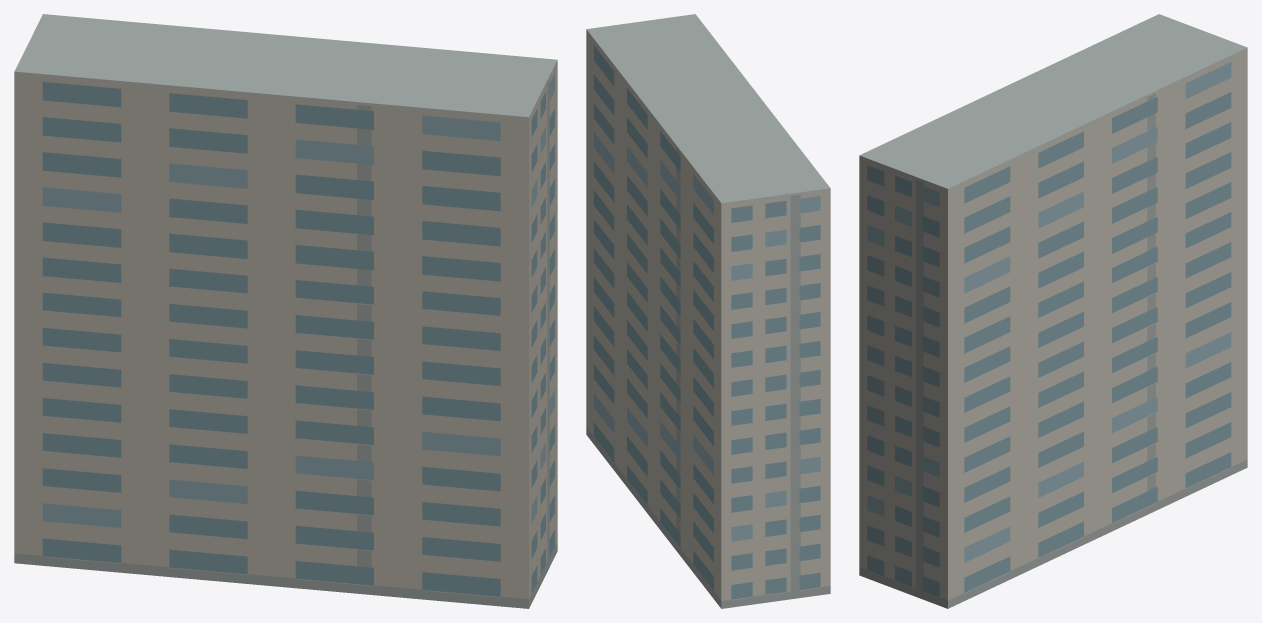
File: residential-3650022a-b456-42fa-b7e1-edda8bdfa89f.glb
The picture shows the model from 3 angles, left to right: view 1: azimuth 30°, elevation 25°; view 2: azimuth 150°, elevation 25°; view 3: azimuth 270°, elevation 25°; orthographic projection. The views are drawn at different scales.
Parts seen in each view (by area): view 1: residential-3650022a-b456-42fa-b7e1-edda8bdfa89f.tmp; view 2: residential-3650022a-b456-42fa-b7e1-edda8bdfa89f.tmp; view 3: residential-3650022a-b456-42fa-b7e1-edda8bdfa89f.tmp.
Boxes of the visible parts, x1=… form: residential-3650022a-b456-42fa-b7e1-edda8bdfa89f.tmp: x1=14, y1=14, x2=557, y2=608; residential-3650022a-b456-42fa-b7e1-edda8bdfa89f.tmp: x1=586, y1=14, x2=830, y2=608; residential-3650022a-b456-42fa-b7e1-edda8bdfa89f.tmp: x1=859, y1=14, x2=1247, y2=608.
Bounding box in the file's own units: 38.14 × 42.7 × 35.79.
